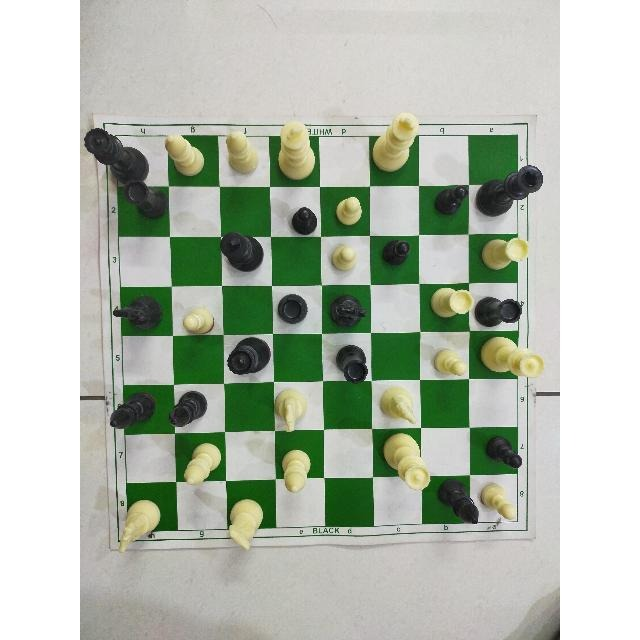black-bishop: (105, 386, 165, 436), (436, 479, 482, 534), (174, 387, 227, 426), (428, 480, 471, 520), (126, 388, 166, 429)
black-king: (470, 155, 551, 223), (215, 223, 269, 284), (470, 186, 518, 238), (221, 239, 269, 280)
black-knight: (104, 289, 170, 336), (120, 291, 175, 333), (325, 286, 376, 329)
black-pawn: (474, 427, 520, 471), (431, 180, 473, 226), (371, 238, 415, 281), (278, 189, 320, 233), (425, 192, 467, 230), (283, 200, 322, 240)
black-queen: (82, 122, 156, 185), (104, 134, 165, 179), (222, 331, 276, 379), (228, 336, 272, 382)
black-rook: (472, 288, 526, 334), (270, 286, 320, 334), (118, 189, 168, 235), (328, 336, 372, 386), (326, 335, 374, 380), (479, 285, 518, 328), (271, 289, 315, 324)
white-bishop: (160, 129, 210, 183), (220, 138, 270, 186), (220, 124, 262, 180), (275, 441, 317, 497), (179, 439, 223, 489), (183, 439, 227, 483), (280, 435, 322, 478), (169, 145, 209, 183)
white-king: (366, 107, 424, 179), (273, 112, 321, 181), (369, 136, 421, 183), (277, 140, 317, 185)
white-knight: (100, 497, 168, 561), (226, 492, 267, 556), (376, 380, 422, 429), (130, 486, 178, 532), (230, 484, 275, 528), (277, 385, 320, 431)
white-pawn: (326, 191, 370, 239), (475, 479, 521, 520), (425, 339, 469, 381), (184, 287, 220, 336), (321, 246, 363, 282)
white-queen: (475, 331, 550, 390), (375, 428, 435, 500), (372, 433, 421, 481), (475, 339, 521, 379)
white-rook: (479, 231, 533, 276), (426, 279, 474, 327), (424, 286, 472, 328), (473, 236, 515, 282)
